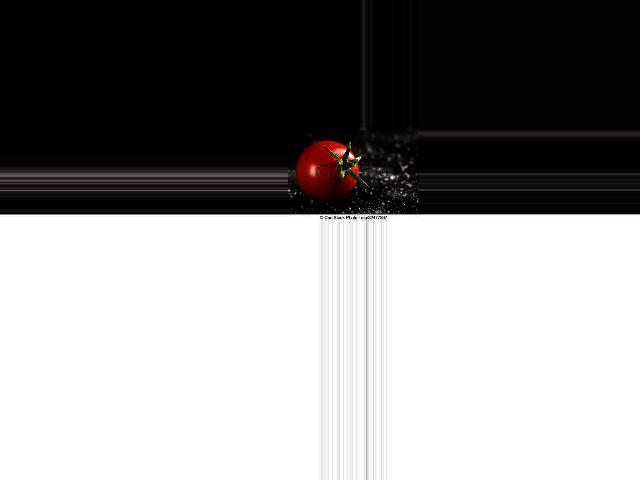tomato: (296, 140, 359, 201)
